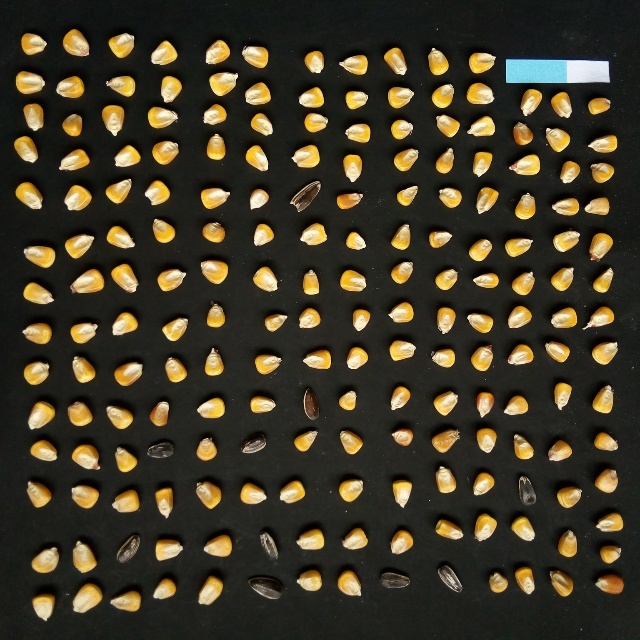escala: (506, 58, 609, 82)
girasol: (288, 175, 324, 214), (243, 574, 286, 602), (256, 525, 284, 566), (434, 562, 465, 597), (296, 383, 323, 423), (113, 531, 143, 564), (514, 474, 540, 509), (377, 568, 412, 592), (238, 430, 269, 456), (146, 441, 175, 461)
maiz: (149, 533, 187, 565), (24, 398, 58, 433), (68, 581, 104, 614), (106, 588, 145, 617), (69, 437, 102, 471), (28, 541, 61, 575), (194, 572, 226, 607), (98, 102, 129, 138), (12, 179, 45, 212), (68, 539, 101, 572), (102, 222, 139, 251), (69, 267, 106, 296), (108, 262, 141, 294), (113, 359, 147, 390), (67, 482, 101, 513), (21, 241, 56, 271), (101, 403, 136, 433), (585, 229, 615, 264), (428, 425, 463, 455), (62, 397, 94, 429), (60, 27, 91, 60), (109, 484, 142, 515), (200, 531, 234, 561), (293, 526, 327, 556), (583, 303, 617, 333), (154, 265, 189, 294), (28, 590, 57, 625), (197, 258, 233, 286), (506, 152, 543, 179), (250, 264, 282, 295), (207, 68, 240, 98), (192, 480, 225, 510), (289, 141, 323, 170), (60, 184, 94, 213), (17, 30, 52, 58), (11, 68, 46, 96), (149, 138, 184, 166), (62, 232, 97, 260), (21, 279, 56, 307), (300, 347, 336, 374), (55, 146, 92, 172), (201, 37, 232, 68), (105, 31, 137, 61), (55, 72, 87, 102), (68, 318, 100, 348), (239, 42, 272, 71), (198, 183, 231, 212), (21, 480, 54, 509), (470, 512, 499, 545), (19, 320, 53, 348), (103, 72, 138, 99), (10, 134, 41, 164), (68, 353, 98, 384), (543, 125, 574, 155), (546, 568, 576, 599), (155, 73, 184, 105), (102, 176, 134, 205), (19, 358, 51, 387), (277, 475, 306, 507), (504, 302, 536, 331), (424, 45, 452, 78), (549, 379, 576, 413), (192, 395, 227, 421), (25, 438, 60, 464), (152, 485, 178, 520), (110, 310, 140, 340), (161, 314, 191, 344), (430, 388, 460, 418), (19, 102, 48, 133), (150, 214, 179, 245), (297, 219, 328, 248), (555, 483, 586, 512), (507, 514, 538, 543), (142, 179, 174, 207), (381, 45, 409, 77), (386, 337, 418, 365), (338, 524, 370, 552), (590, 383, 617, 416), (197, 101, 231, 127), (502, 234, 536, 260), (388, 477, 414, 511), (145, 104, 180, 129), (249, 352, 284, 377), (245, 109, 275, 138), (242, 143, 271, 173), (248, 220, 277, 250), (548, 263, 577, 293), (468, 470, 498, 499), (148, 39, 179, 67), (201, 131, 229, 162), (293, 566, 324, 594), (334, 568, 362, 599), (241, 80, 273, 107), (112, 143, 144, 170), (466, 49, 498, 76), (385, 84, 417, 111), (200, 346, 226, 379), (465, 80, 498, 106), (512, 564, 538, 597), (291, 427, 320, 456), (336, 475, 365, 504), (590, 340, 620, 368), (429, 517, 464, 541), (469, 343, 496, 374), (336, 267, 368, 293), (432, 463, 458, 495), (592, 574, 628, 597), (337, 52, 370, 77), (341, 121, 375, 145), (548, 229, 582, 253), (465, 235, 493, 264), (548, 90, 575, 120), (474, 185, 501, 215), (473, 427, 500, 457), (512, 191, 538, 222), (582, 195, 613, 221), (388, 221, 414, 252), (465, 309, 496, 335), (504, 343, 535, 369), (510, 431, 536, 462), (465, 113, 497, 138), (340, 152, 365, 184), (295, 85, 328, 109), (299, 48, 327, 76), (336, 429, 364, 457), (162, 355, 189, 384), (150, 575, 179, 602), (428, 82, 457, 109), (517, 88, 544, 117), (385, 384, 412, 413), (387, 528, 416, 555), (593, 511, 627, 534), (549, 306, 580, 331), (585, 133, 620, 155), (470, 148, 494, 180), (547, 195, 580, 218), (113, 445, 140, 473), (589, 266, 616, 294), (432, 113, 461, 139), (392, 146, 421, 172), (392, 182, 421, 208), (348, 306, 374, 335), (301, 109, 331, 134), (148, 398, 173, 428), (247, 391, 277, 416), (238, 480, 268, 505), (587, 159, 617, 184), (433, 305, 458, 335), (299, 267, 323, 298), (385, 301, 416, 325), (59, 111, 86, 138), (389, 259, 416, 286), (510, 269, 537, 296), (343, 345, 370, 372), (261, 309, 289, 335), (433, 266, 459, 294), (546, 438, 574, 464), (428, 346, 457, 371), (543, 340, 572, 365), (501, 394, 530, 419), (556, 528, 579, 559), (436, 185, 464, 210), (204, 299, 227, 329), (584, 94, 614, 117), (192, 436, 218, 462), (202, 219, 229, 244), (296, 306, 323, 331), (343, 88, 371, 112), (434, 146, 457, 175), (592, 430, 621, 453), (471, 271, 502, 292), (511, 121, 536, 147), (594, 468, 619, 494), (558, 158, 582, 185), (389, 118, 417, 141), (426, 228, 455, 250), (473, 390, 495, 419), (247, 186, 271, 212), (596, 543, 624, 565), (333, 191, 365, 210), (485, 570, 510, 594), (343, 229, 369, 251), (390, 426, 416, 448), (335, 389, 359, 412)
